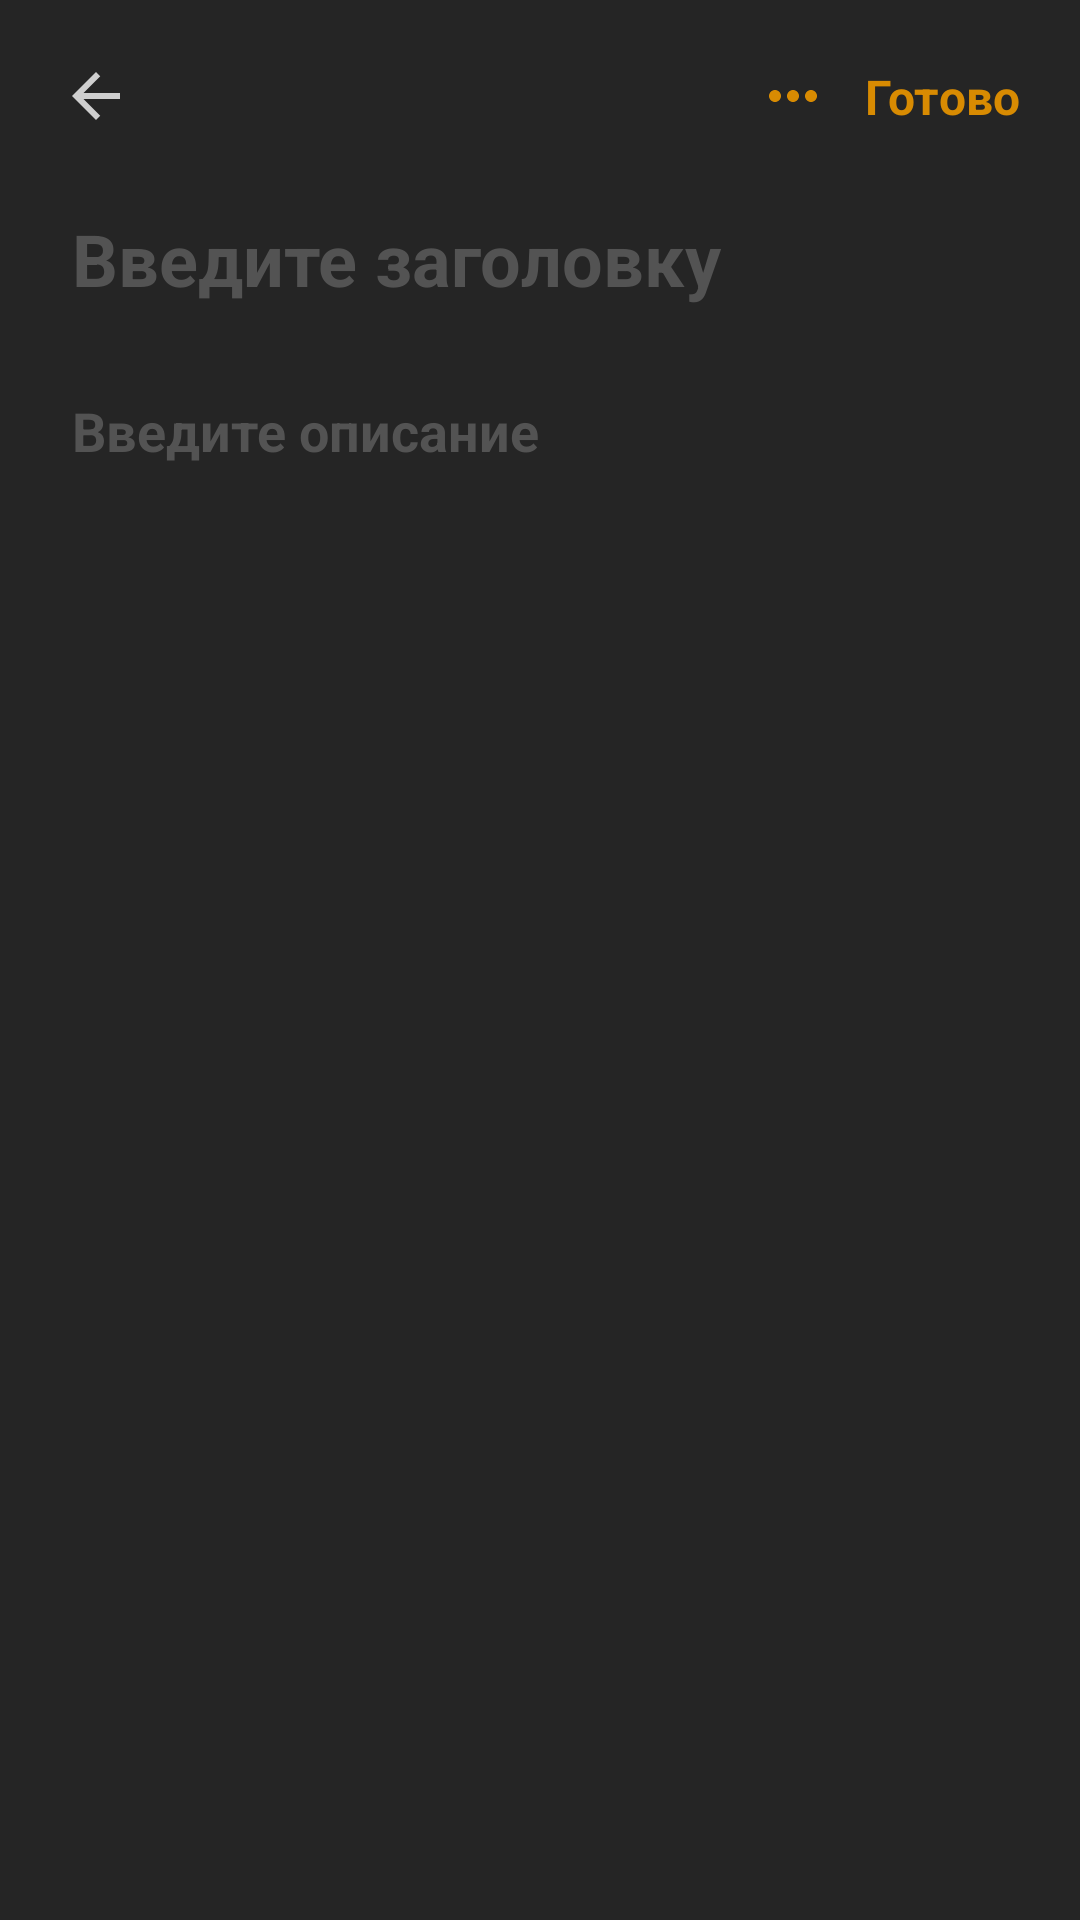

Where icons sit on this 1080 x 1920 app screen, as (left=x1, top=y1, right=x2, bottom=y2):
back: (left=72, top=72, right=120, bottom=120)
more: (left=769, top=90, right=817, bottom=102)
